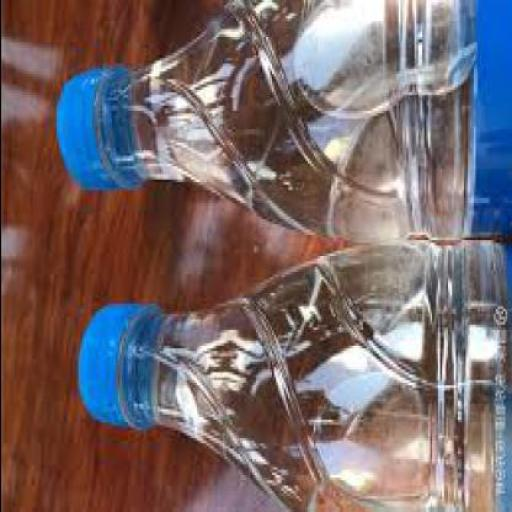plastic: (73, 238, 510, 510), (54, 0, 510, 238), (54, 60, 140, 185), (75, 298, 150, 426)
